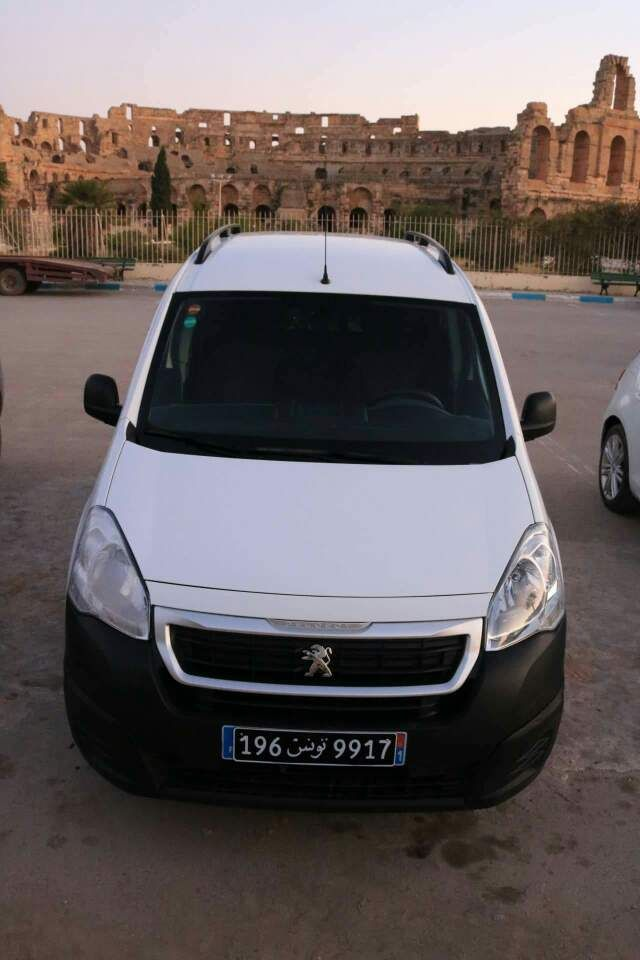LP: (228, 725, 400, 772)
